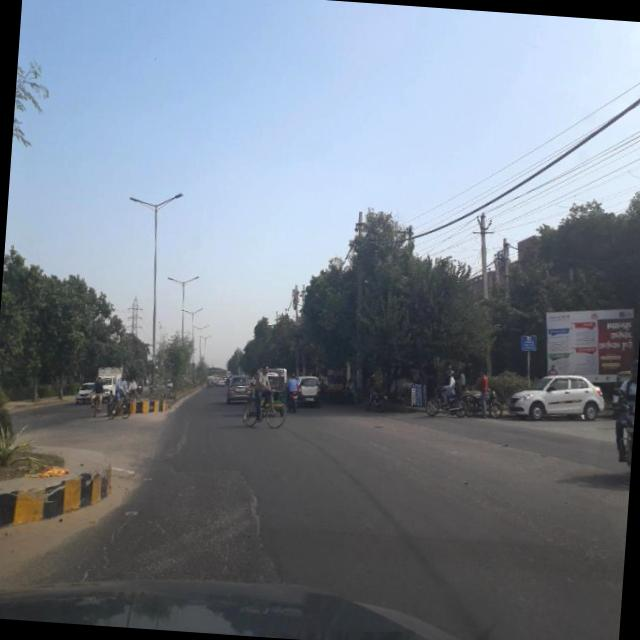pothole: (84, 490, 146, 579), (232, 456, 278, 572)
